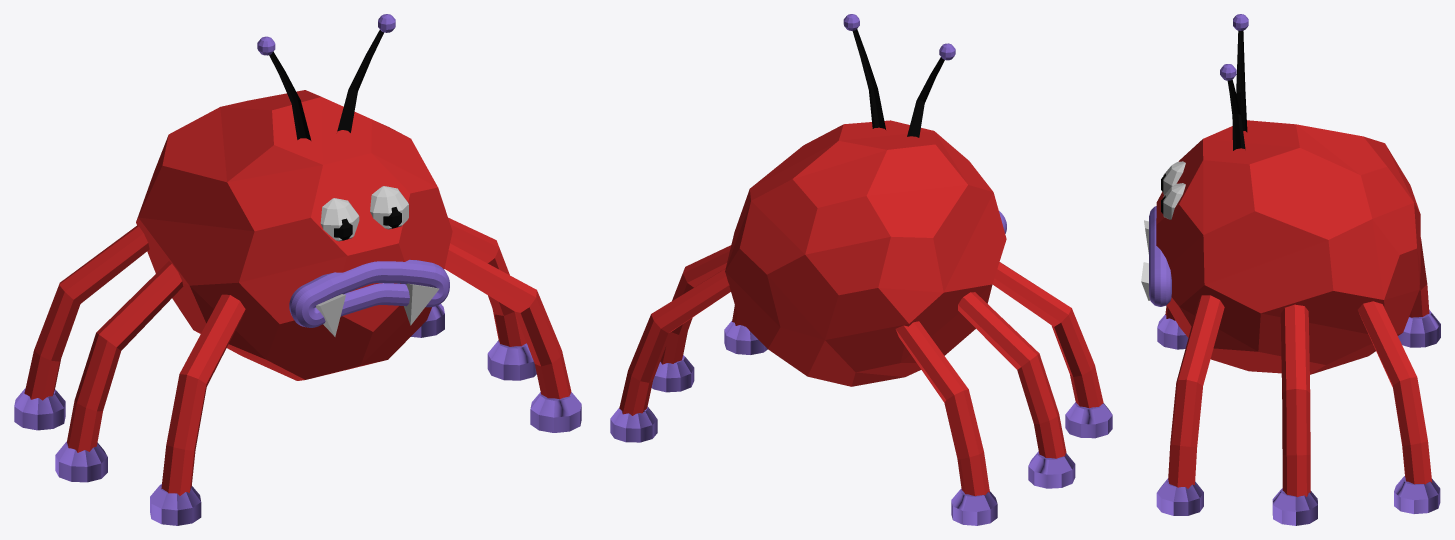
The model's file is sneukie.fbx.
3 views of the same model, side by side, from view 1: azimuth 30°, elevation 25°; view 2: azimuth 150°, elevation 25°; view 3: azimuth 270°, elevation 25° (orthographic). The views are drawn at different scales.
Visible parts, largest first — view 1: body, leg, leg_4, mond, leg_6, leg_12, leg_8, poot_6, poot_2, poot, poot_3, poot_4 (+6 smaller); view 2: body, leg_6, leg, leg_10, leg_4, leg_8, poot, poot_2, poot_3, poot_5, poot_4, poot_6 (+2 smaller); view 3: body, leg_8, leg_12, leg_10, mond, poot_5, poot_4, poot_6, poot_3, poot_2, spriet_4, leg_6 (+3 smaller).
Boxes of the visible parts, bbox=[...] form: body: bbox=[136, 90, 452, 380]; leg: bbox=[67, 261, 183, 452]; leg_4: bbox=[161, 294, 245, 495]; mond: bbox=[289, 259, 449, 327]; leg_6: bbox=[24, 226, 149, 400]; leg_12: bbox=[444, 243, 571, 399]; leg_8: bbox=[448, 217, 526, 346]; poot_6: bbox=[530, 392, 581, 432]; poot_2: bbox=[150, 484, 201, 525]; poot: bbox=[55, 441, 107, 482]; poot_3: bbox=[14, 388, 65, 430]; poot_4: bbox=[487, 340, 536, 380]; body: bbox=[725, 120, 1006, 386]; leg_6: bbox=[895, 321, 989, 495]; leg: bbox=[958, 292, 1066, 458]; leg_10: bbox=[619, 268, 730, 415]; leg_4: bbox=[992, 262, 1103, 408]; leg_8: bbox=[660, 245, 731, 364]; poot: bbox=[1028, 451, 1075, 488]; poot_2: bbox=[1065, 402, 1112, 438]; poot_3: bbox=[951, 488, 997, 525]; poot_5: bbox=[610, 407, 657, 442]; poot_4: bbox=[651, 355, 694, 392]; poot_6: bbox=[724, 320, 767, 354]; body: bbox=[1156, 120, 1420, 374]; leg_8: bbox=[1280, 304, 1310, 497]; leg_12: bbox=[1168, 295, 1224, 488]; leg_10: bbox=[1358, 301, 1432, 484]; mond: bbox=[1149, 206, 1171, 306]; poot_5: bbox=[1394, 476, 1440, 513]; poot_4: bbox=[1272, 488, 1317, 525]; poot_6: bbox=[1156, 478, 1203, 515]; poot_3: bbox=[1398, 310, 1440, 347]; poot_2: bbox=[1157, 314, 1188, 349]; spriet_4: bbox=[1236, 30, 1247, 132]; leg_6: bbox=[1409, 237, 1429, 317].
Size of the model in its own units: 1.05 by 0.8936 by 0.6396.
